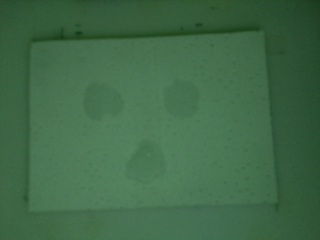Water_detected: (125, 147, 169, 189), (158, 77, 202, 119), (80, 87, 116, 122)
